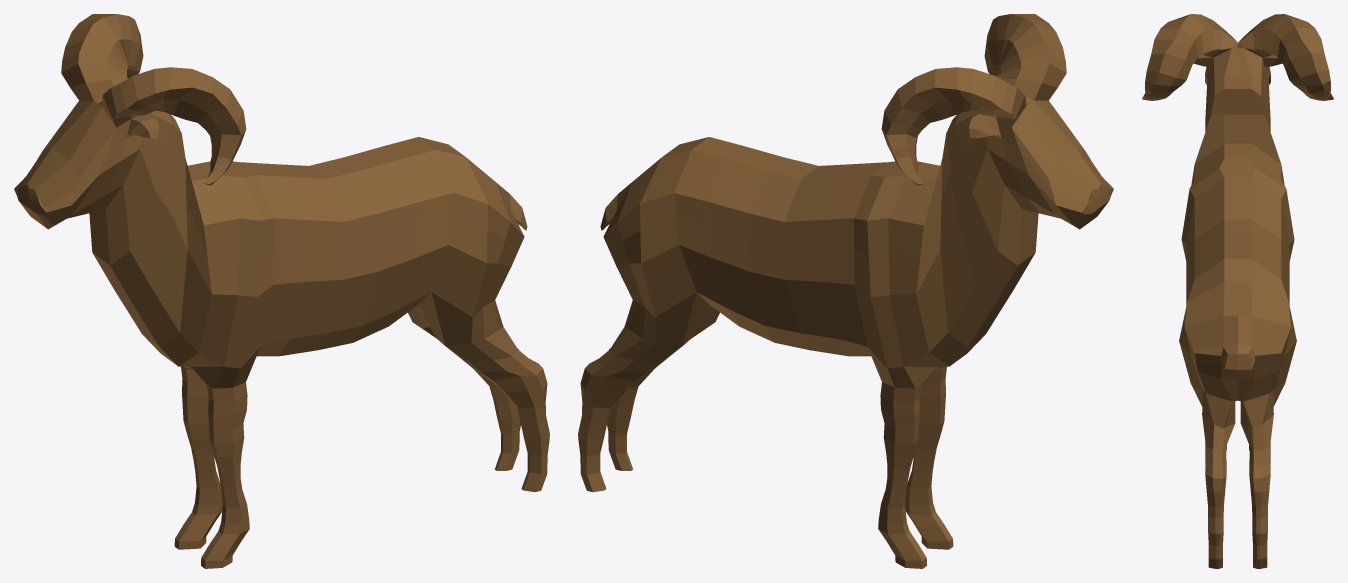
Rendered from Ram_jkw.glb.
The picture shows the model from 3 angles, left to right: view 1: azimuth 30°, elevation 25°; view 2: azimuth 150°, elevation 25°; view 3: azimuth 270°, elevation 25°; orthographic projection. The views are drawn at different scales.
Visible parts, largest first — view 1: Plane; view 2: Plane; view 3: Plane.
Boxes of the visible parts, x1,y1,x2,y2 form: Plane: (14,14,549,568); Plane: (578,14,1113,568); Plane: (1142,14,1333,568).
Size of the model in its own units: 3.71 by 3.69 by 1.58.
